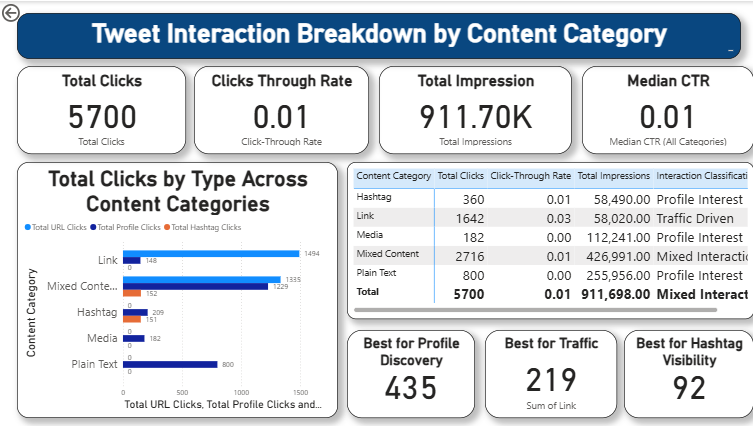

What the dashboard file says about the page in this screenshot:
{"tool":"powerbi","page":{"name":"Task-1","canvas":[1280,720],"ordinal":0},"visuals":[{"type":"clusteredBarChart","title":"Total Clicks by Type Across Content Categories","fields":{"Category":["SocialMedia (1).Content Category"],"Y":["SocialMedia (1).Total URL Clicks","SocialMedia (1).Total Profile Clicks","SocialMedia (1).Total Hashtag Clicks"]},"box":[30.2,270.4,539.2,430],"z":0},{"type":"card","title":"Total Clicks","fields":{"Values":["SocialMedia (1).Total Clicks"]},"box":[30.2,109.2,283.9,147.8],"z":1000},{"type":"card","title":"Total Impression","fields":{"Values":["SocialMedia (1).Total Impressions"]},"box":[638.3,109.2,324.2,147.8],"z":2000},{"type":"card","title":"Median CTR","fields":{"Values":["SocialMedia (1).Median CTR (All Categories)"]},"box":[979.3,109.2,288.9,147.8],"z":3000},{"type":"card","title":"Clicks Through Rate","fields":{"Values":["SocialMedia (1).Click-Through Rate"]},"box":[327.6,109.2,294,147.8],"z":4000},{"type":"pivotTable","fields":{"Rows":["SocialMedia (1).Content Category"],"Values":["SocialMedia (1).Total Clicks","SocialMedia (1).Click-Through Rate","SocialMedia (1).Total Impressions","SocialMedia (1).Interaction Classification"]},"box":[584.6,270.4,683.7,263.7],"z":5000},{"type":"actionButton","box":[0,0,100,40],"z":6000},{"type":"textbox","title":"Tweet Interaction Breakdown by Content Category","box":[30.2,20.2,1216.2,77.3],"z":7000},{"type":"card","title":"Best for Profile Discovery","fields":{"Values":["Sum(SocialMedia (1).Media)"]},"box":[584.6,552.7,215,147.8],"z":8000},{"type":"card","title":" Best for Traffic","fields":{"Values":["Sum(SocialMedia (1).Link)"]},"box":[816.4,552.7,221.7,147.8],"z":9000},{"type":"card","title":"Best for Hashtag Visibility","fields":{"Values":["Sum(SocialMedia (1).Hashtag)"]},"box":[1049.9,552.7,218.4,147.8],"z":10000}]}

Visuals, with their boxes in screenshot pixels (x1, y1, x2, y2), scaled from the page's 1280x720 canvas onto the 753x426 screenshot:
"Total Clicks by Type Across Content Categories" clusteredBarChart: select_region(18, 160, 335, 414)
"Total Clicks" card: select_region(18, 65, 185, 152)
"Total Impression" card: select_region(375, 65, 566, 152)
"Median CTR" card: select_region(576, 65, 746, 152)
"Clicks Through Rate" card: select_region(193, 65, 366, 152)
pivotTable - SocialMedia (1).Content Category x SocialMedia (1).Total Clicks: select_region(344, 160, 746, 316)
actionButton: select_region(0, 0, 59, 24)
"Tweet Interaction Breakdown by Content Category" textbox: select_region(18, 12, 733, 58)
"Best for Profile Discovery" card: select_region(344, 327, 470, 414)
" Best for Traffic" card: select_region(480, 327, 611, 414)
"Best for Hashtag Visibility" card: select_region(618, 327, 746, 414)
